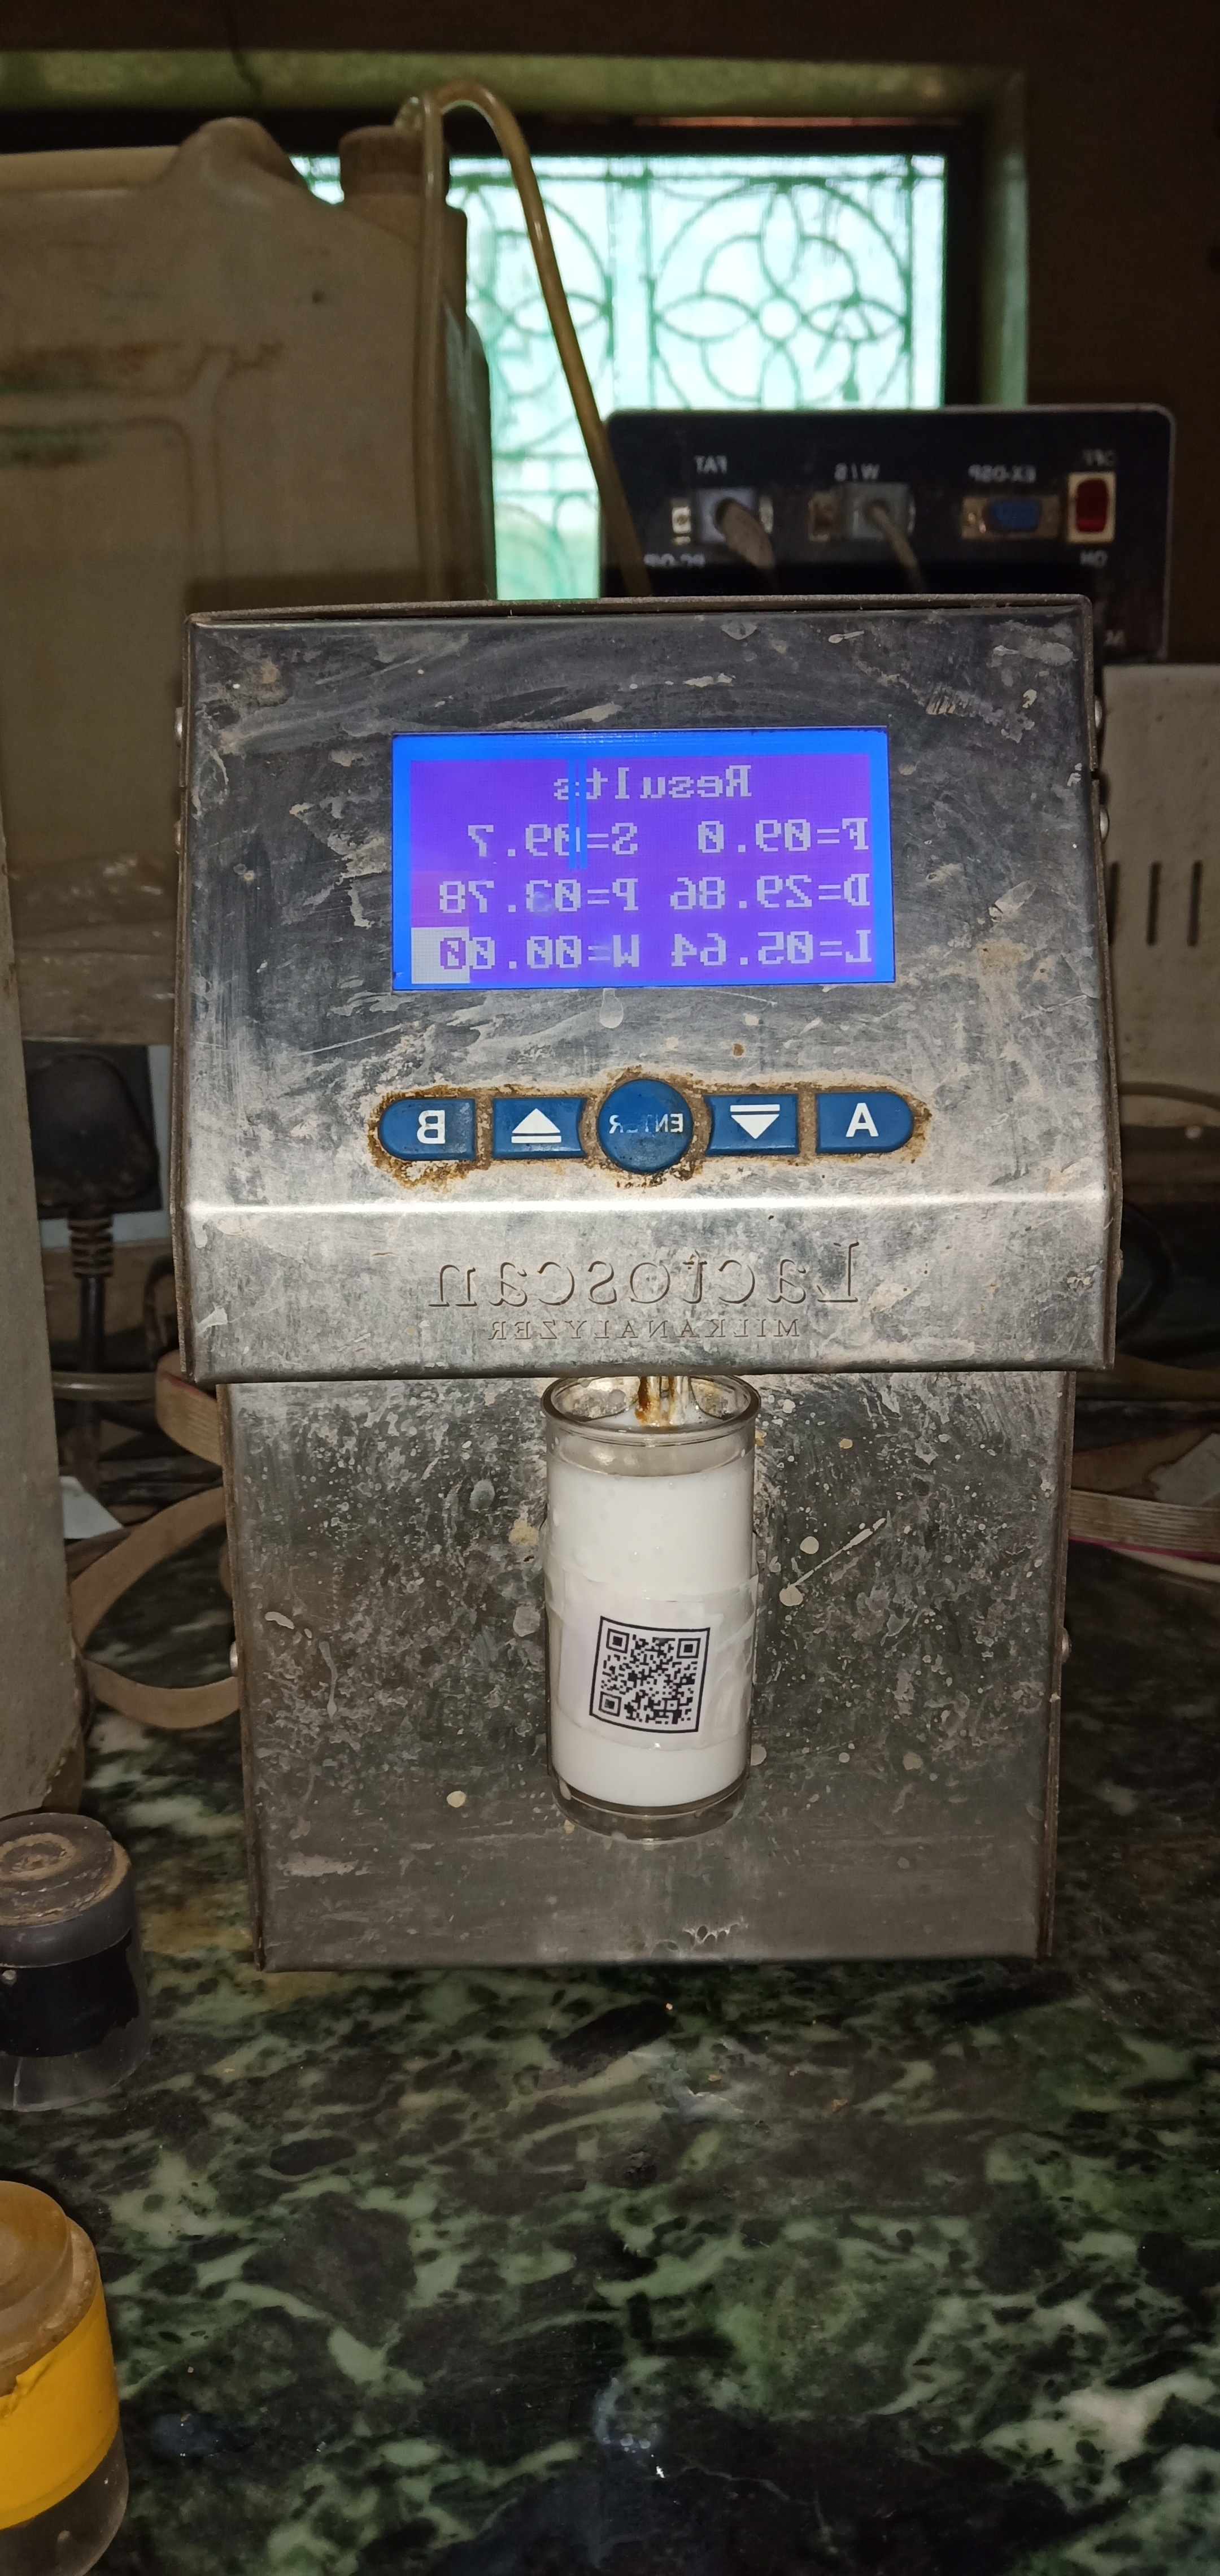lcd: (383, 715, 906, 1009)
qr: (580, 1607, 718, 1735)
